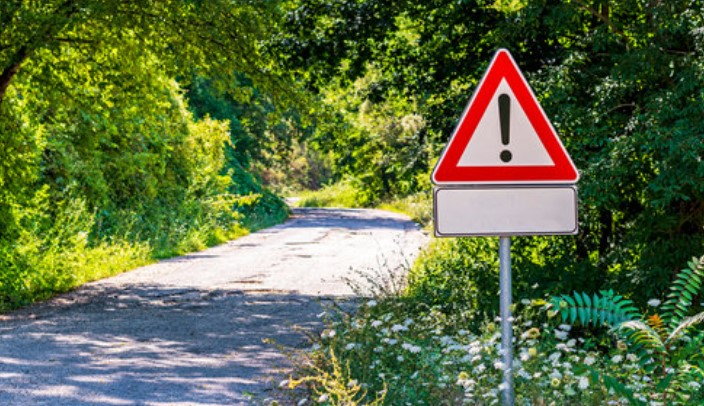Danger: (432, 46, 581, 191)
